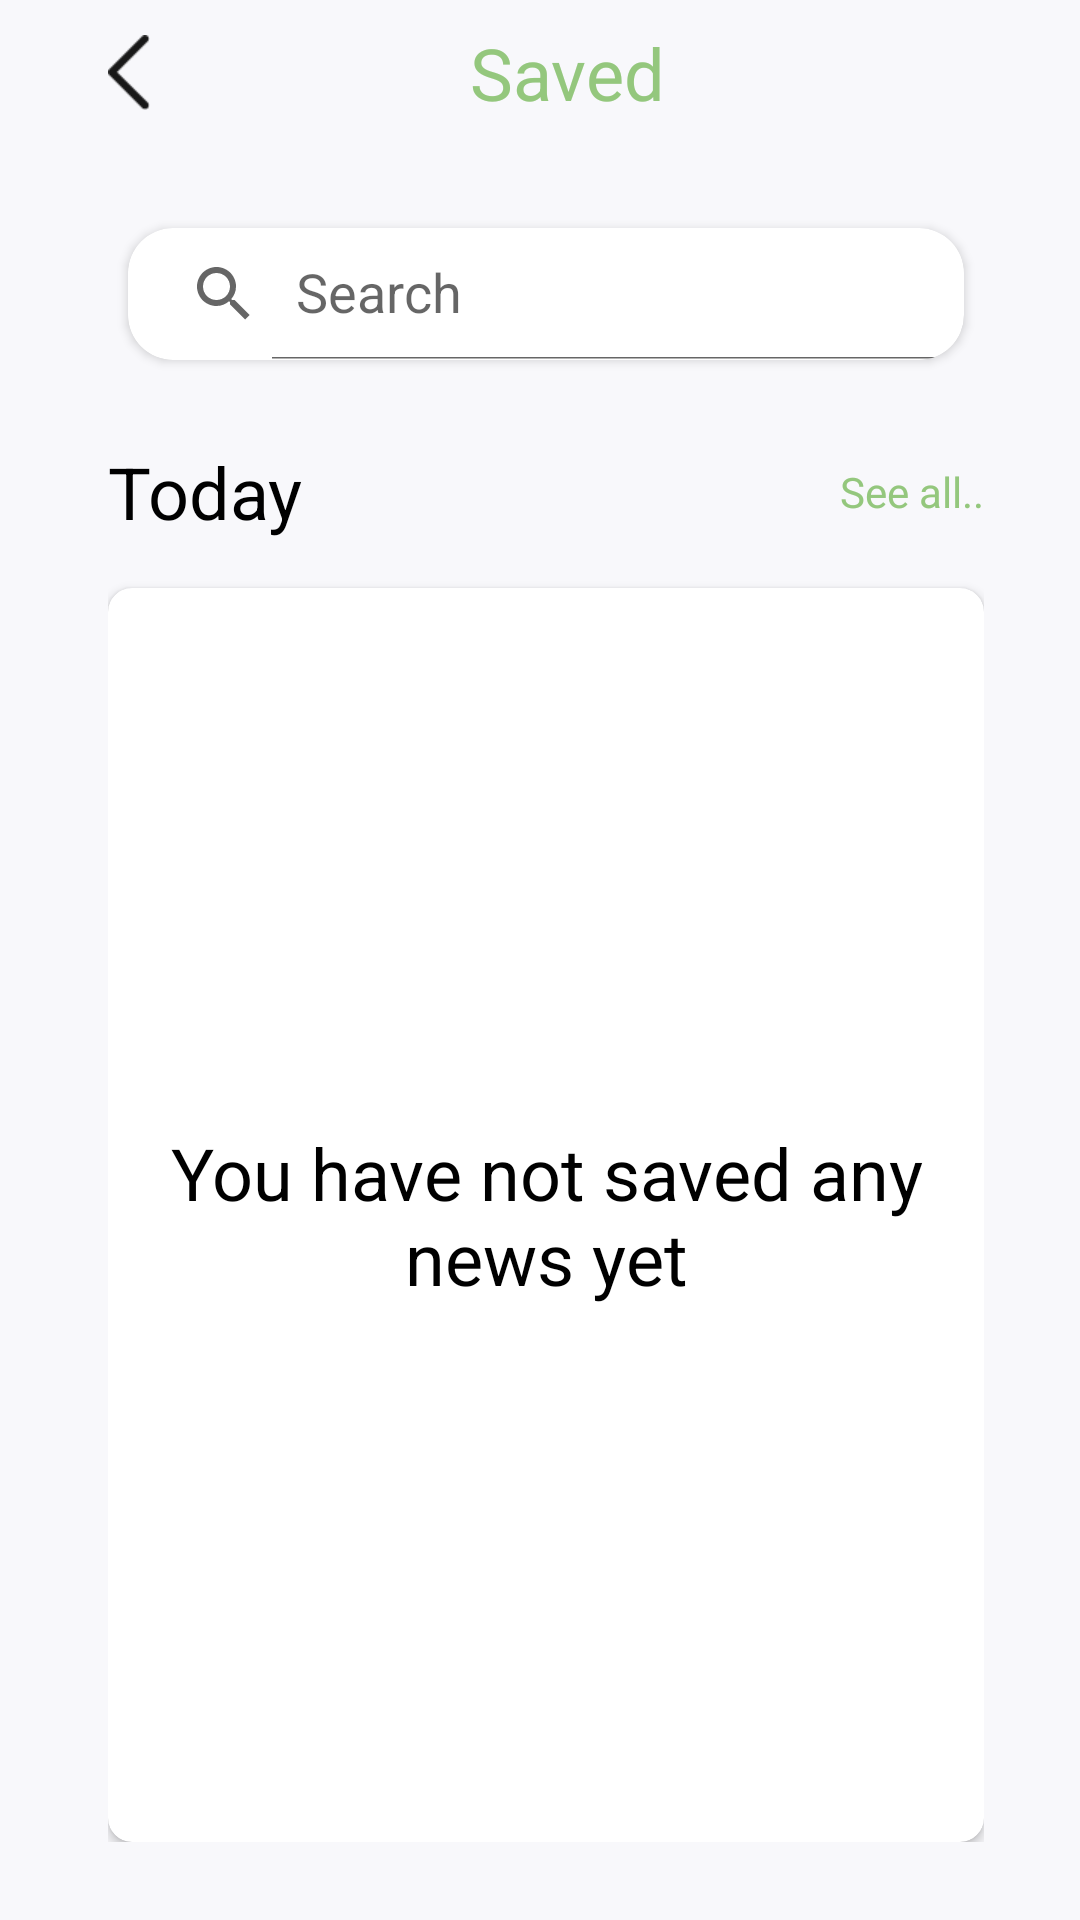

Where to tap for icons on this 1080px×1920px app screen, as [x,y]:
back: [128,72]
